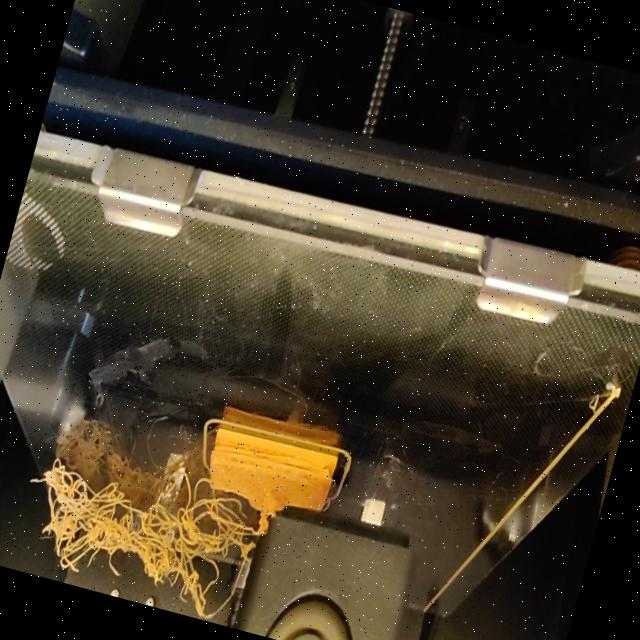spaghetti: (5, 433, 270, 628)
